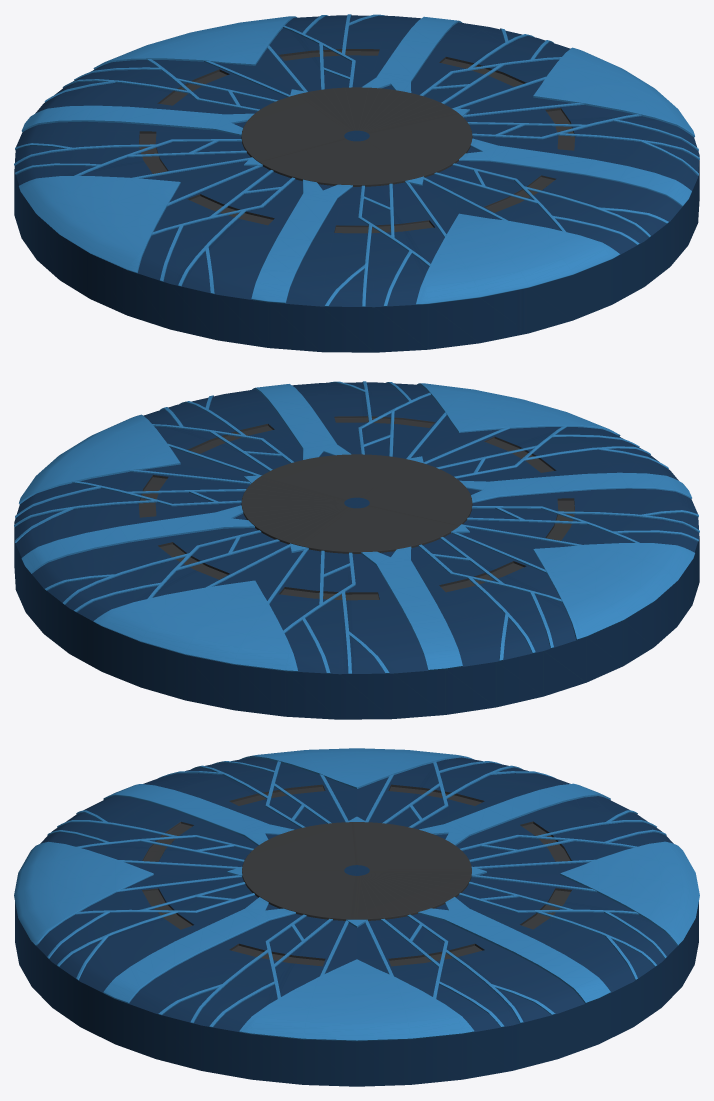
Rendered from a_sch_2_entrance01_bottom01.gltf.
The picture shows the model from 3 angles, top to bottom: view 1: azimuth 30°, elevation 25°; view 2: azimuth 150°, elevation 25°; view 3: azimuth 270°, elevation 25°; orthographic projection.
Parts seen in each view (by area): view 1: a_sch_2_entrance01_bottom01_mesh_shape:a_sch_2_entrance01_ba (×3); view 2: a_sch_2_entrance01_bottom01_mesh_shape:a_sch_2_entrance01_ba (×3); view 3: a_sch_2_entrance01_bottom01_mesh_shape:a_sch_2_entrance01_ba (×3).
Boxes of the visible parts, box(x1,y1,x2,y2) form: a_sch_2_entrance01_bottom01_mesh_shape:a_sch_2_entrance01_ba (×3): box(14, 14, 699, 352); a_sch_2_entrance01_bottom01_mesh_shape:a_sch_2_entrance01_ba (×3): box(14, 381, 699, 719); a_sch_2_entrance01_bottom01_mesh_shape:a_sch_2_entrance01_ba (×3): box(14, 748, 699, 1086).
Size of the model in its own units: 596 by 68.93 by 596.
3 materials, 3 textured.
